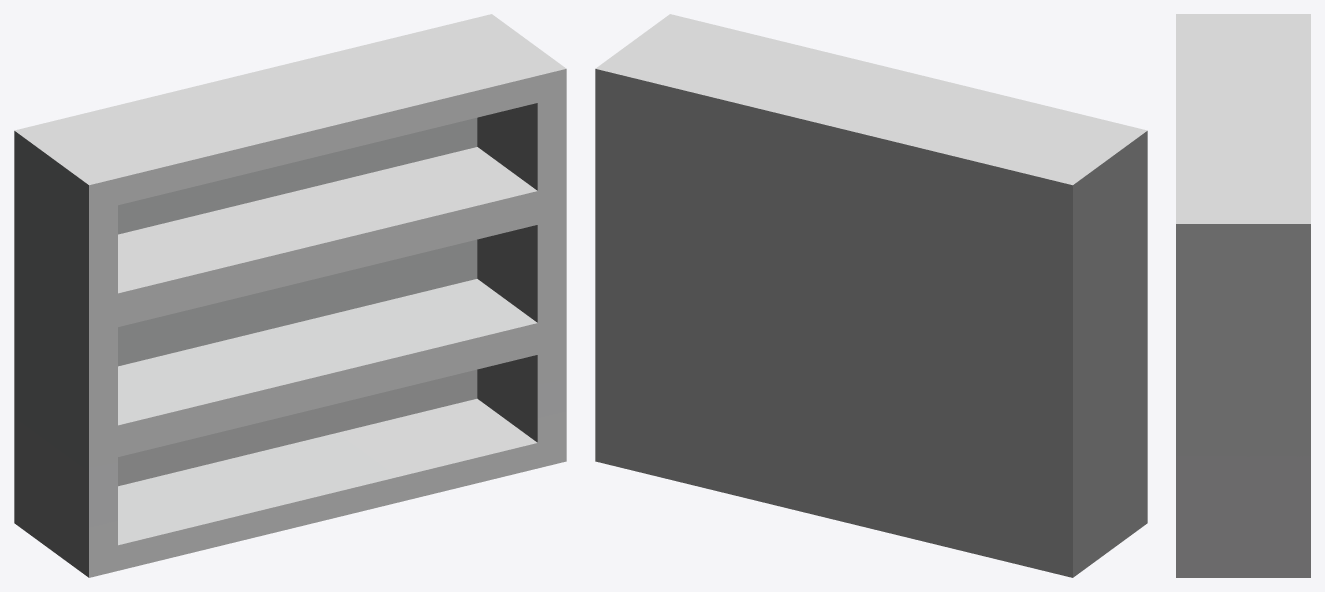
File: shelf type 1 KIRI.fbx
The picture shows the model from 3 angles, left to right: view 1: azimuth 30°, elevation 25°; view 2: azimuth 150°, elevation 25°; view 3: azimuth 270°, elevation 25°; orthographic projection. The views are drawn at different scales.
Parts seen in each view (by area): view 1: shelf.001; view 2: shelf.001; view 3: shelf.001.
Boxes of the visible parts, left/top/right/bottom form: shelf.001: left=14, top=14, right=566, bottom=577; shelf.001: left=595, top=14, right=1147, bottom=577; shelf.001: left=1176, top=14, right=1310, bottom=577.
Bounding box in the file's own units: 693 × 544 × 188.
1 material, 1 textured.
